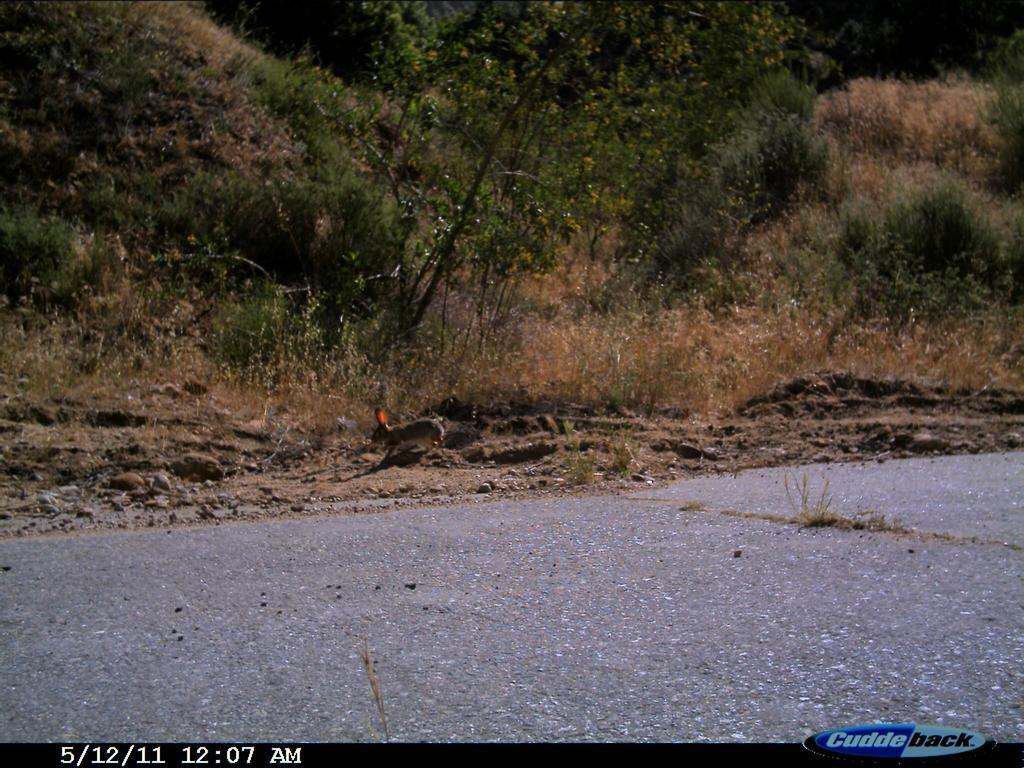rabbit: (365, 404, 450, 478)
